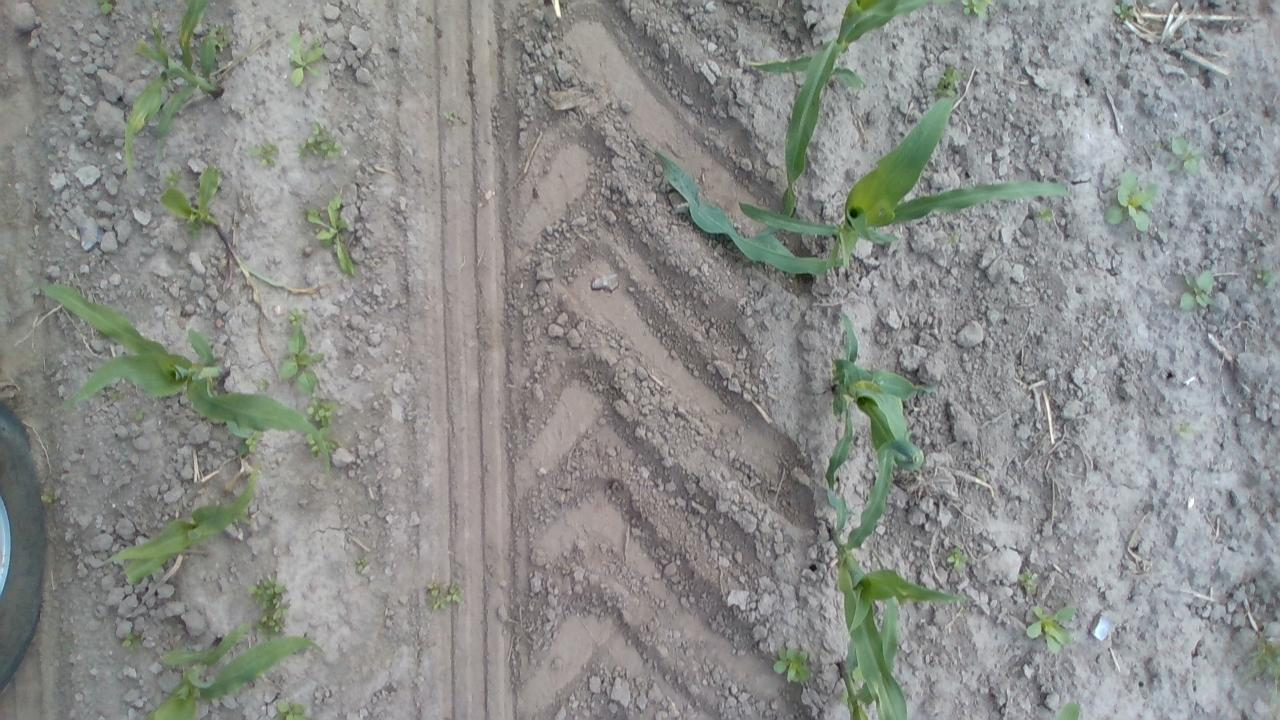Maize: (643, 72, 1065, 278), (36, 283, 332, 477), (746, 0, 932, 233), (824, 438, 969, 720), (826, 308, 942, 532), (102, 453, 261, 590), (124, 1, 228, 185), (142, 625, 324, 720), (837, 597, 901, 720)
Weeds: (304, 194, 358, 278), (1102, 166, 1162, 238), (248, 571, 300, 635), (1019, 600, 1078, 656), (278, 324, 324, 394), (1235, 634, 1280, 691), (299, 120, 342, 166), (286, 32, 323, 82), (1163, 134, 1205, 178), (772, 642, 812, 685), (1176, 270, 1216, 312), (426, 576, 464, 612), (932, 65, 965, 98), (242, 143, 278, 172), (306, 394, 336, 428), (1249, 264, 1278, 296), (275, 699, 309, 720), (961, 0, 992, 22), (164, 164, 188, 188), (946, 544, 967, 570), (212, 24, 229, 56), (1056, 701, 1084, 720), (1018, 564, 1039, 589), (242, 428, 262, 453), (1112, 0, 1134, 22), (96, 1, 121, 18), (38, 487, 58, 508), (1032, 206, 1054, 224), (120, 633, 140, 652), (945, 232, 961, 251), (286, 306, 304, 322), (444, 109, 459, 126), (254, 379, 268, 392), (353, 559, 368, 571), (136, 407, 148, 421), (306, 433, 314, 444)
